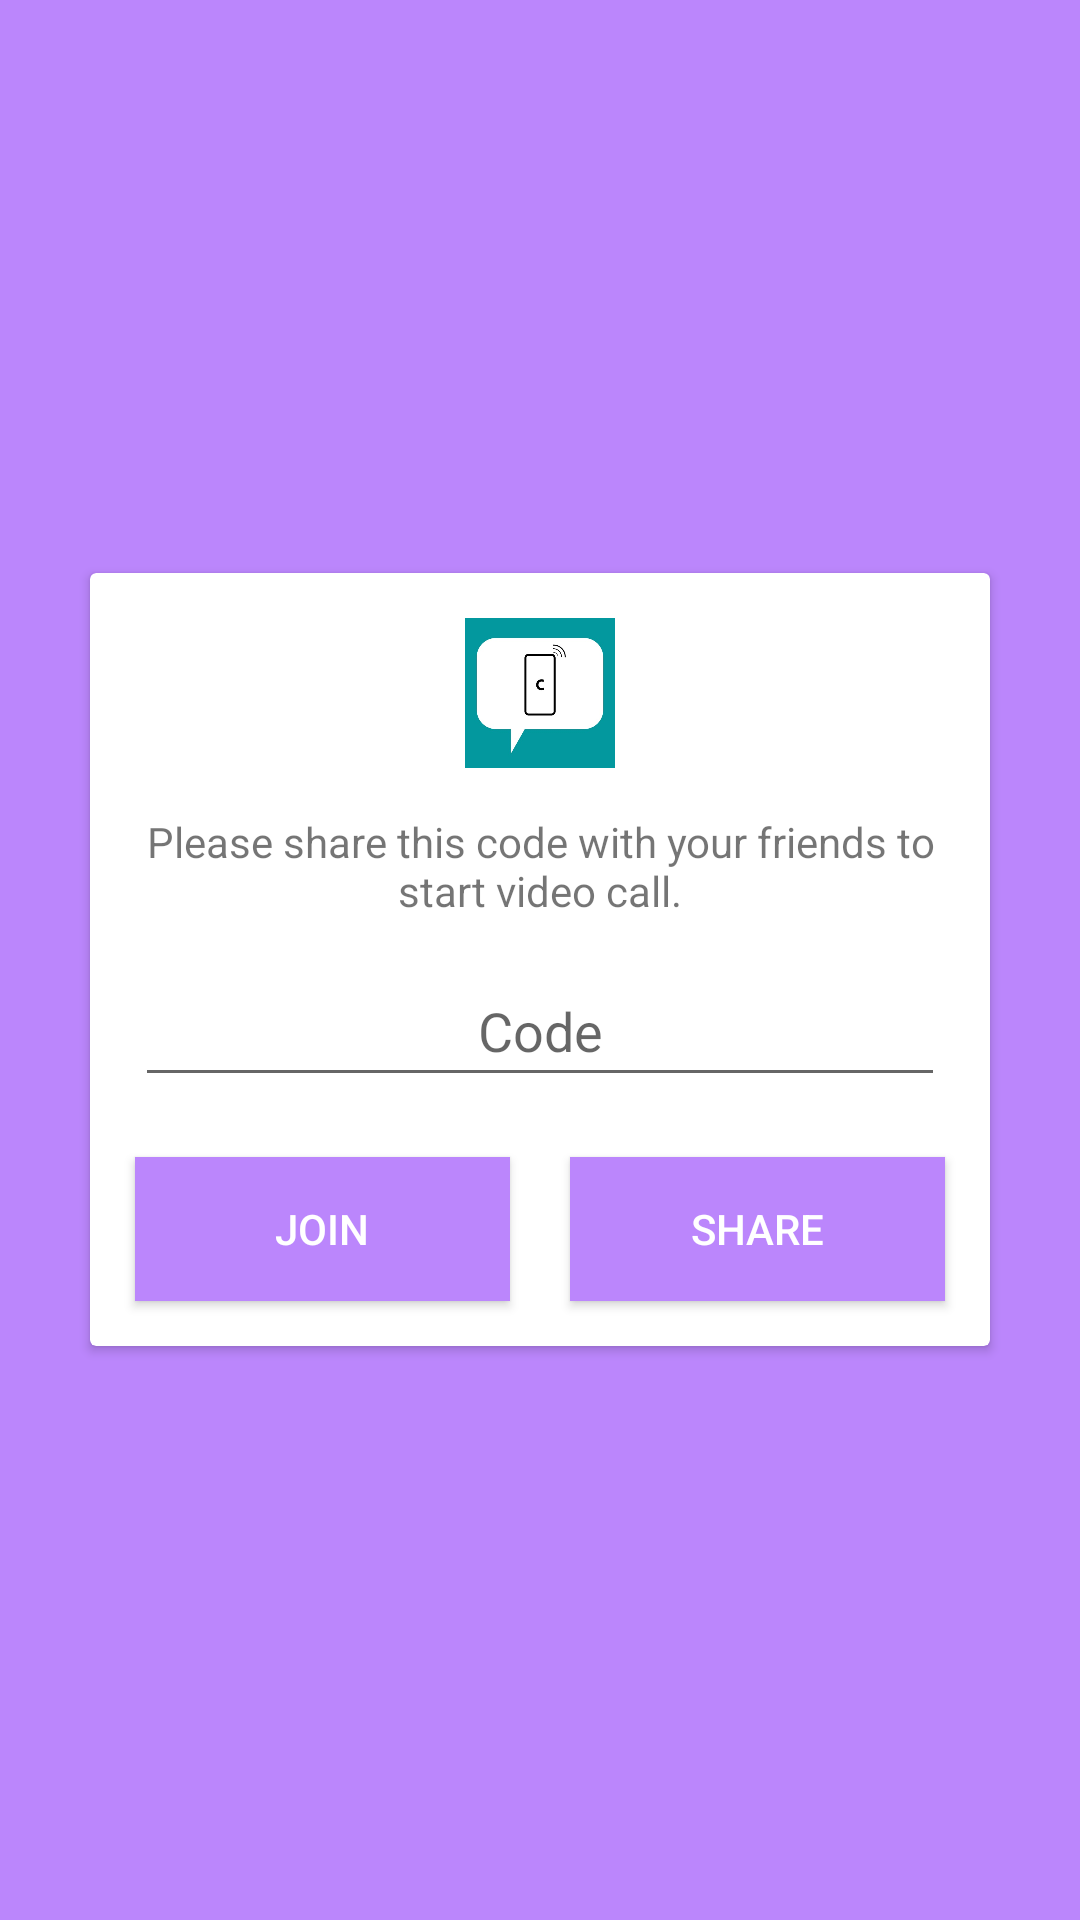

Point at icon controls on the screen. Image size 1080w x 1920h, points as [x,y].
chatup: [540,693]
